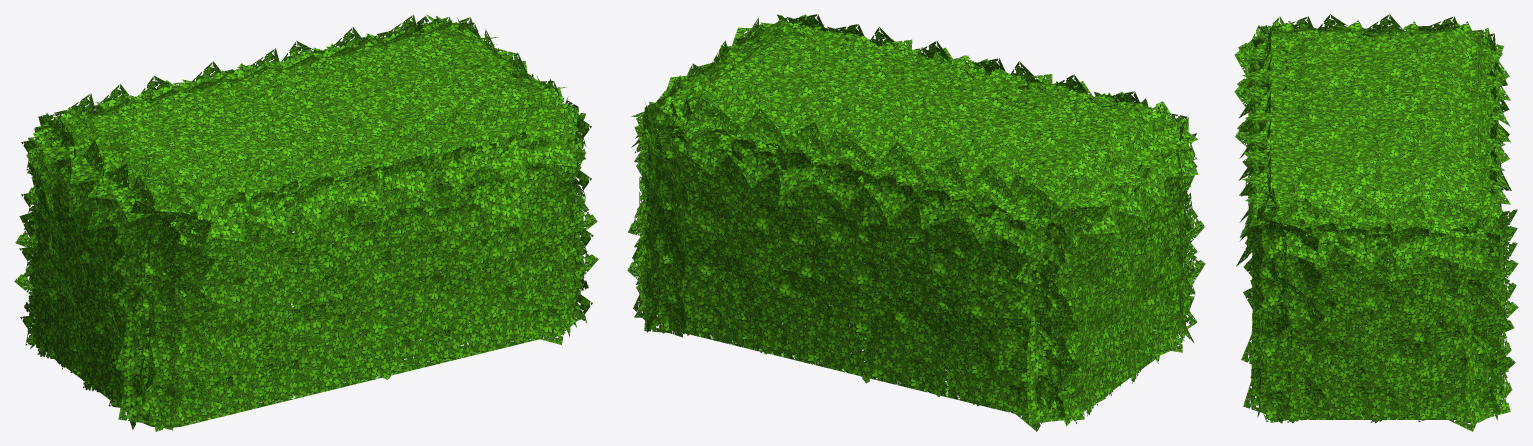
Rendered from Bush.fbx.
3 views of the same model, side by side, from view 1: azimuth 30°, elevation 25°; view 2: azimuth 150°, elevation 25°; view 3: azimuth 270°, elevation 25° (orthographic). The views are drawn at different scales.
Parts seen in each view (by area): view 1: MainBush, Large_set_of_leaves28, Large_set_of_leaves25, Large_set_of_leaves35, Large_set_of_leaves39, Large_set_of_leaves24, Large_set_of_leaves27, Large_set_of_leaves37, Large_set_of_leaves34, Large_set_of_leaves32, Large_set_of_leaves29, Large_set_of_leaves40 (+84 smaller); view 2: MainBush, Large_set_of_leaves16 (×2), Large_set_of_leaves7 (×2), Large_set_of_leaves13 (×2), Large_set_of_leaves18 (×2), Large_set_of_leaves21 (×2), Large_set_of_leaves22, Large_set_of_leaves20, Large_set_of_leaves8, Large_set_of_leaves10 (×2), Medium_Set_of_leaves10 (×2), Medium_Set_of_leaves9 (×2) (+75 smaller); view 3: MainBush, Large_set_of_leaves16, Large_set_of_leaves18, Large_set_of_leaves13, Large_set_of_leaves21, Large_set_of_leaves10, Medium_Set_of_leaves9 (×3), Large_set_of_leaves17, Large_set_of_leaves58, Large_set_of_leaves7, Medium_Set_of_leaves6 (×2), Medium_Set_of_leaves10 (+89 smaller).
Part boxes in pixels (bbox=[...]): MainBush: bbox=[44, 34, 567, 427]; Large_set_of_leaves28: bbox=[265, 297, 351, 401]; Large_set_of_leaves25: bbox=[322, 284, 421, 379]; Large_set_of_leaves35: bbox=[481, 244, 568, 348]; Large_set_of_leaves39: bbox=[389, 276, 476, 361]; Large_set_of_leaves24: bbox=[264, 247, 364, 343]; Large_set_of_leaves27: bbox=[422, 249, 520, 345]; Large_set_of_leaves37: bbox=[232, 198, 336, 309]; Large_set_of_leaves34: bbox=[338, 211, 441, 322]; Large_set_of_leaves32: bbox=[401, 162, 501, 258]; Large_set_of_leaves29: bbox=[315, 171, 418, 282]; Large_set_of_leaves40: bbox=[190, 263, 288, 359]; MainBush: bbox=[659, 38, 1173, 421]; Large_set_of_leaves16 (×2): bbox=[746, 271, 1173, 383]; Large_set_of_leaves7 (×2): bbox=[745, 211, 1179, 320]; Large_set_of_leaves13 (×2): bbox=[714, 159, 1164, 293]; Large_set_of_leaves18 (×2): bbox=[669, 147, 1128, 304]; Large_set_of_leaves21 (×2): bbox=[672, 189, 1137, 346]; Large_set_of_leaves22: bbox=[803, 273, 899, 383]; Large_set_of_leaves20: bbox=[869, 293, 953, 396]; Large_set_of_leaves8: bbox=[880, 192, 977, 302]; Large_set_of_leaves10 (×2): bbox=[660, 232, 1131, 397]; Medium_Set_of_leaves10 (×2): bbox=[670, 96, 1120, 234]; Medium_Set_of_leaves9 (×2): bbox=[720, 108, 1144, 217]; MainBush: bbox=[1263, 36, 1486, 419]; Large_set_of_leaves16: bbox=[1356, 339, 1447, 423]; Large_set_of_leaves18: bbox=[1272, 240, 1364, 323]; Large_set_of_leaves13: bbox=[1321, 239, 1427, 338]; Large_set_of_leaves21: bbox=[1276, 283, 1379, 378]; Large_set_of_leaves10: bbox=[1263, 325, 1368, 420]; Medium_Set_of_leaves9 (×3): bbox=[1327, 14, 1510, 270]; Large_set_of_leaves17: bbox=[1272, 339, 1364, 423]; Large_set_of_leaves58: bbox=[1383, 318, 1465, 393]; Large_set_of_leaves7: bbox=[1355, 286, 1460, 381]; Medium_Set_of_leaves6 (×2): bbox=[1374, 125, 1509, 269]; Medium_Set_of_leaves10: bbox=[1276, 199, 1344, 267].
Size of the model in its own units: 84.94 by 43.51 by 48.15.
Materials: 2 (2 with a texture image).
